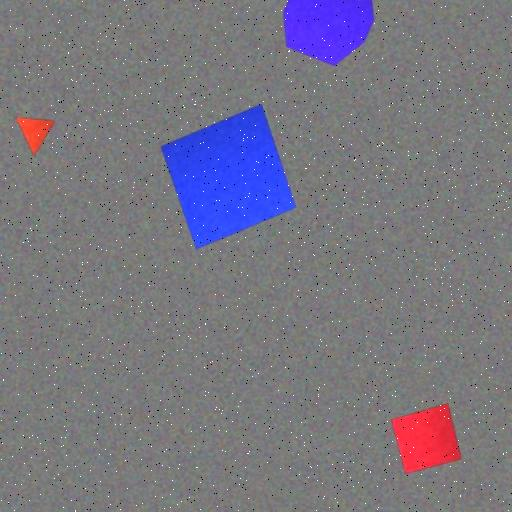BLUE_SQUARE: (160, 104, 297, 250)
RED_SQUARE: (390, 402, 462, 474)
